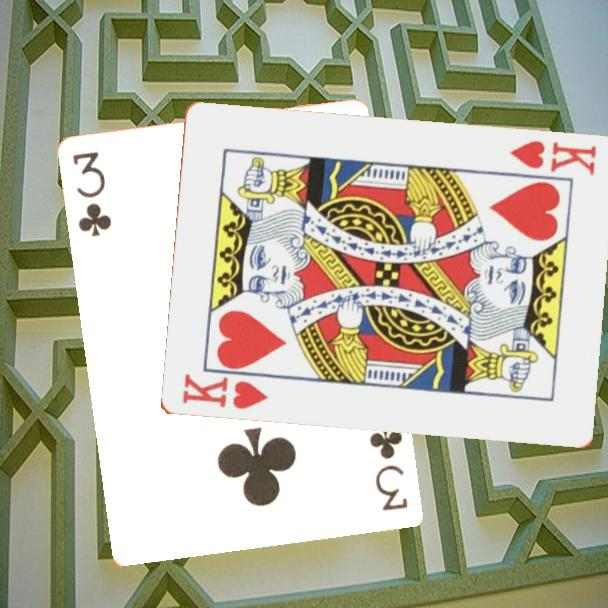c03: (69, 149, 115, 240), (366, 422, 411, 514)
h13: (178, 370, 271, 413), (506, 137, 599, 179)
